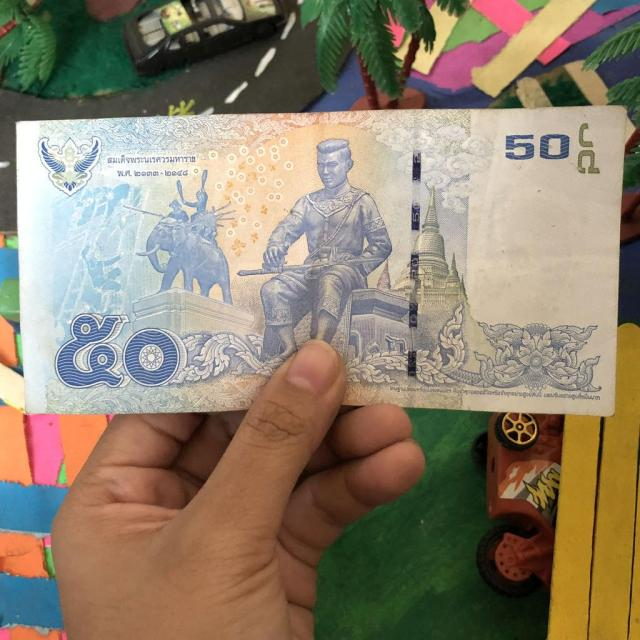THAI50: (18, 107, 631, 416)
